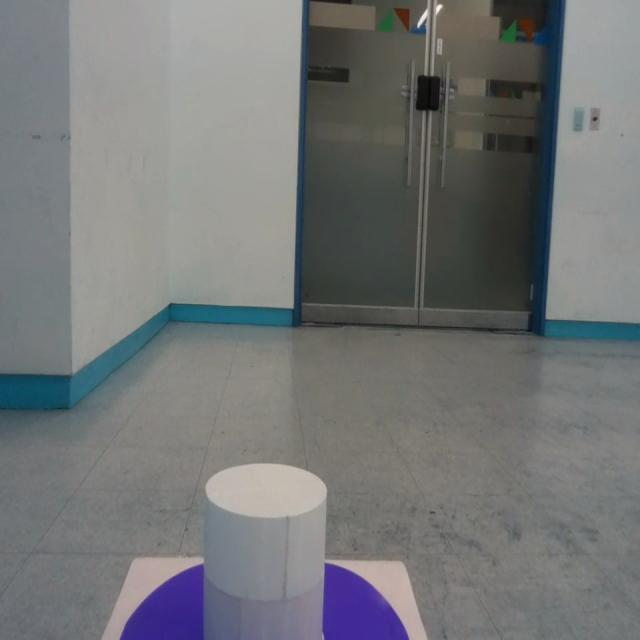cylinder: (202, 464, 328, 640)
